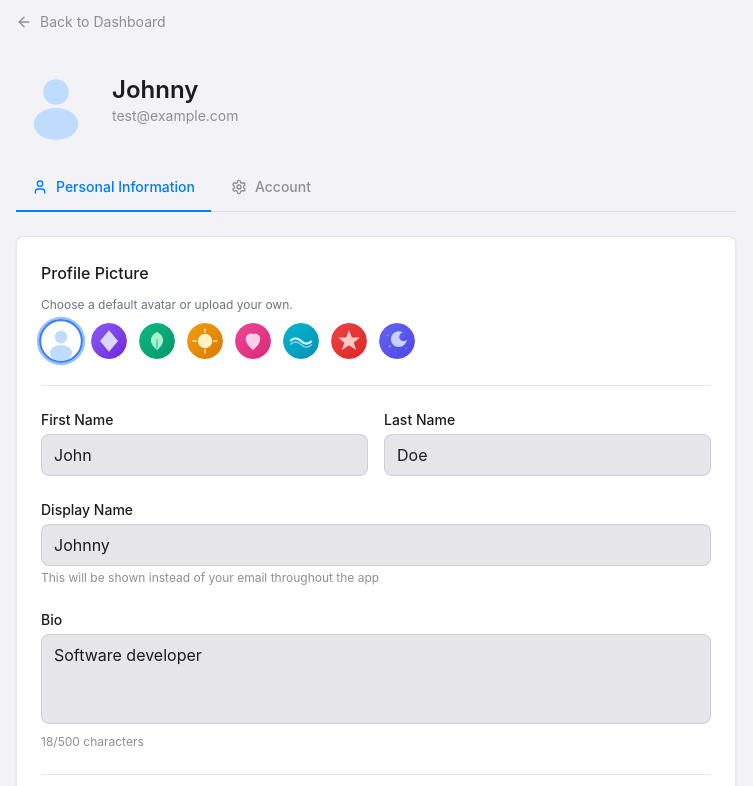
Test: ProfilePage › Desktop Tab Navigation › switches to Account tab when clicked on desktop
The width and height of the screenshot is (753, 786).
Click the button "Account": (271, 188) left=215, top=164, right=327, bottom=212
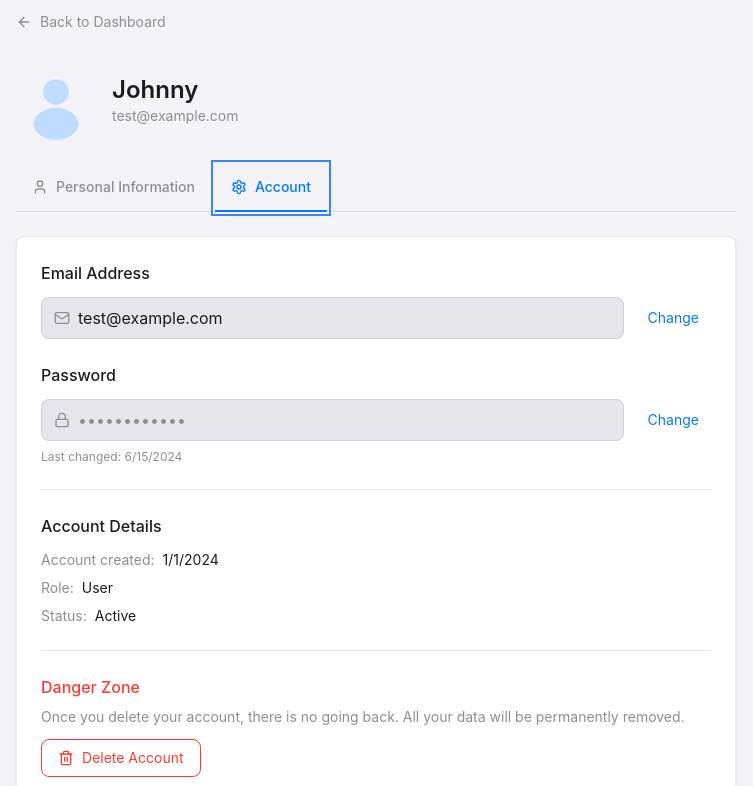
Check: the heading "Email Address" is shown, box left=41, top=263, right=150, bottom=283
